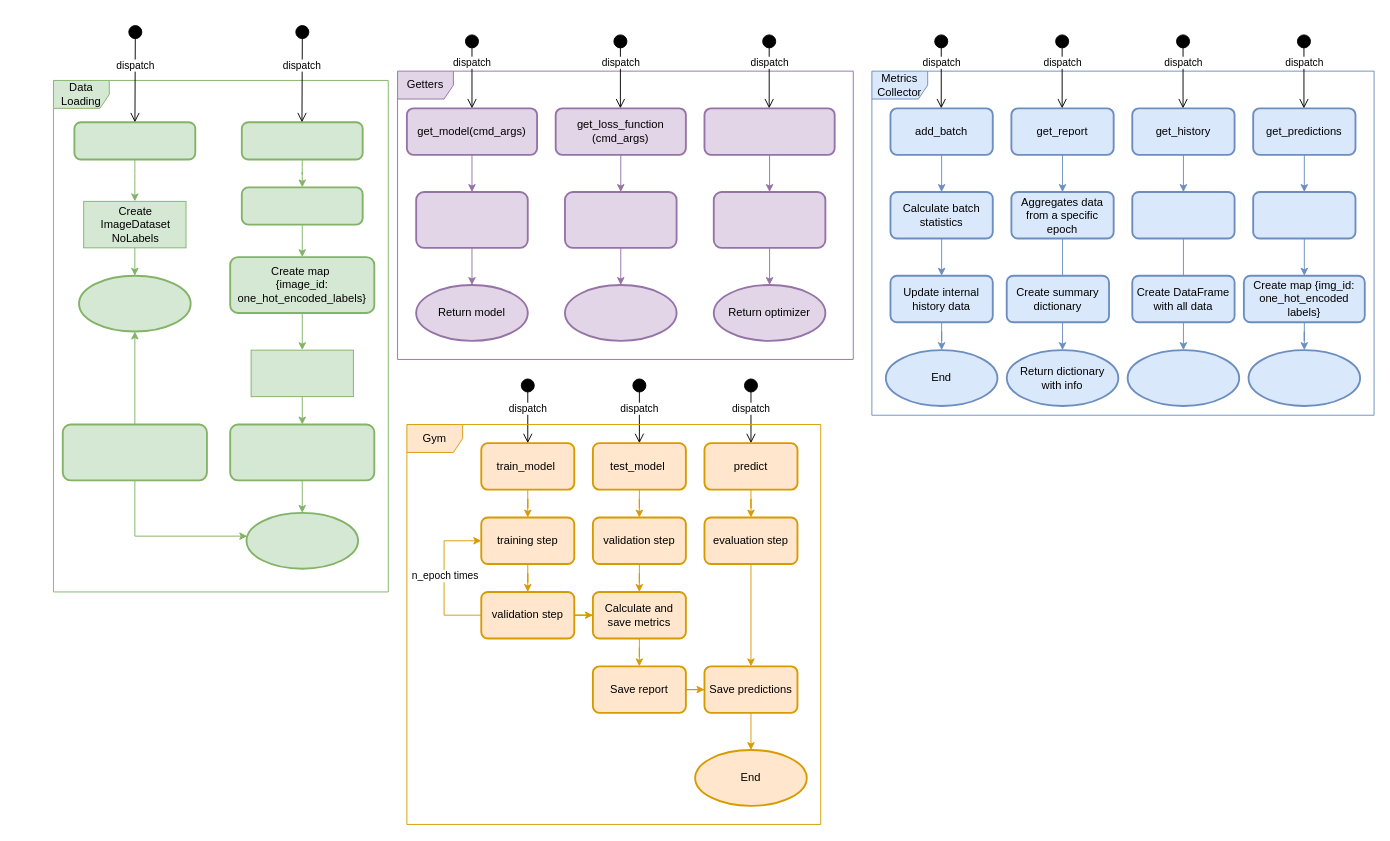
This 1390x841 diagram has some shape labels left out. Here are the shapes that lost their labels. From the top down, the centre of each, then its label:
At pixel 134 140: "get_data_no_labels()".
At pixel 301 140: "get_data_and_split()".
At pixel 769 131: "get_optimizer(cmd_args)".
At pixel 301 205: "Load annotations".
At pixel 471 219: "Initialize chosen model".
At pixel 620 219: "Initialize chosen loss function".
At pixel 769 219: "Initialize chosen optimizer".
At pixel 1183 215: "Aggregates all data from all epochs".
At pixel 1304 215: "Collects data from predicted labels".
At pixel 134 303: "return Dataloader and labels map".
At pixel 620 312: "Return loss function".
At pixel 301 373: "Create ImageDataset".
At pixel 1183 377: "Return DataFrame".
At pixel 1304 377: "Return prediction map".
At pixel 134 452: "Get map {label: one_hot_encoded}".
At pixel 302 452: "Split in train/dev/test dataloader".
At pixel 302 540: "return Dataloaders and labels map".
